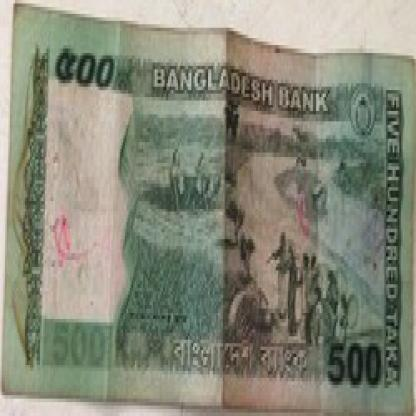500 taka: (45, 38, 125, 101), (324, 336, 384, 399)
